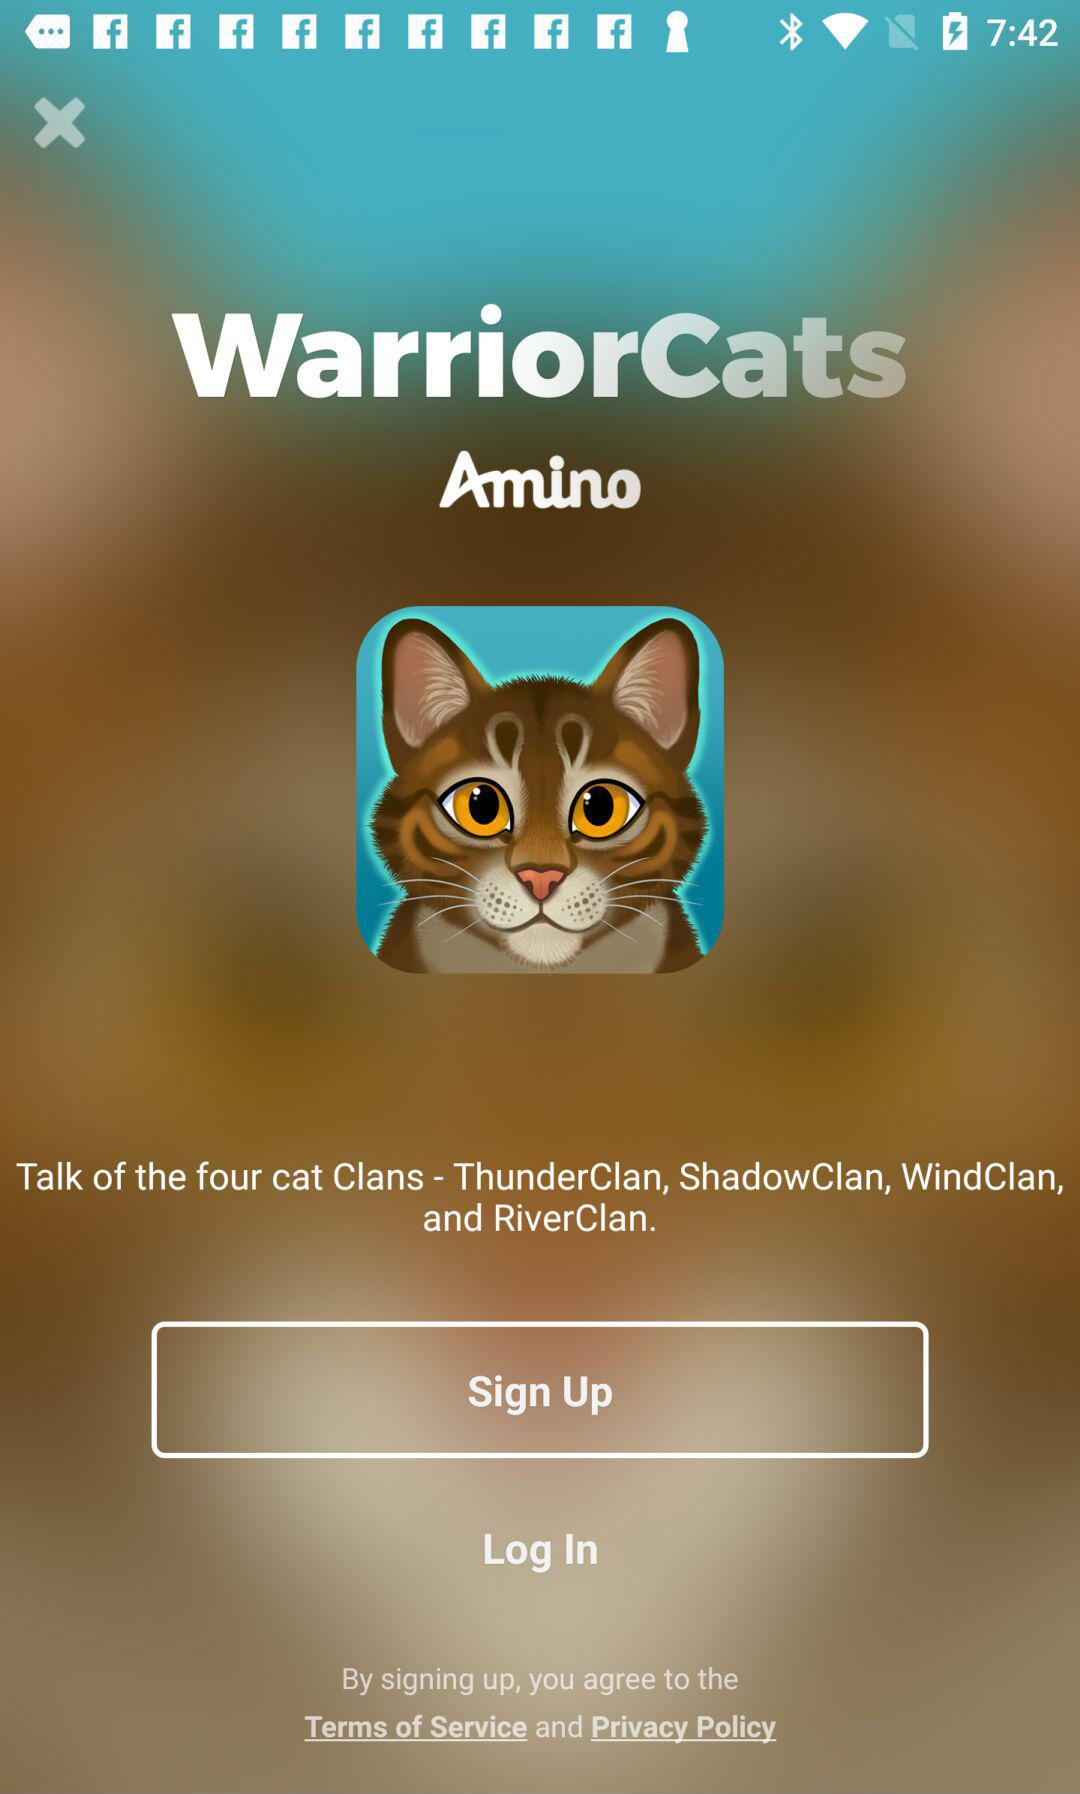Icon: (33, 97, 88, 151)
Image: (356, 605, 725, 975), (438, 450, 643, 511)
Text: (15, 1160, 1065, 1235), (170, 302, 910, 401), (304, 1666, 779, 1745), (484, 1533, 600, 1576)
TextButton: (152, 1321, 930, 1460)
UpperTaskBar: (1, 1, 1080, 55)
